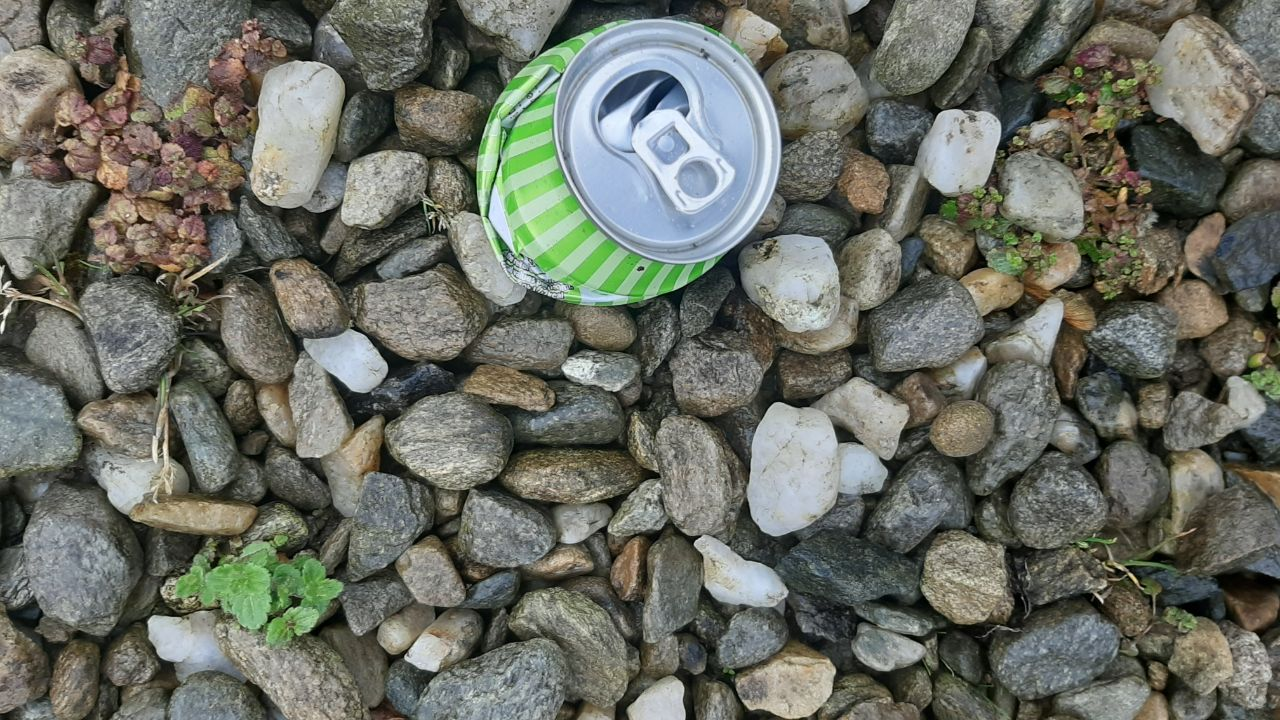Can: (477, 22, 784, 308)
